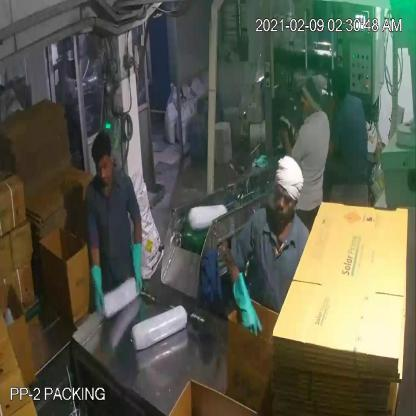glove: (227, 259, 266, 342), (125, 232, 153, 300), (85, 255, 108, 322)
